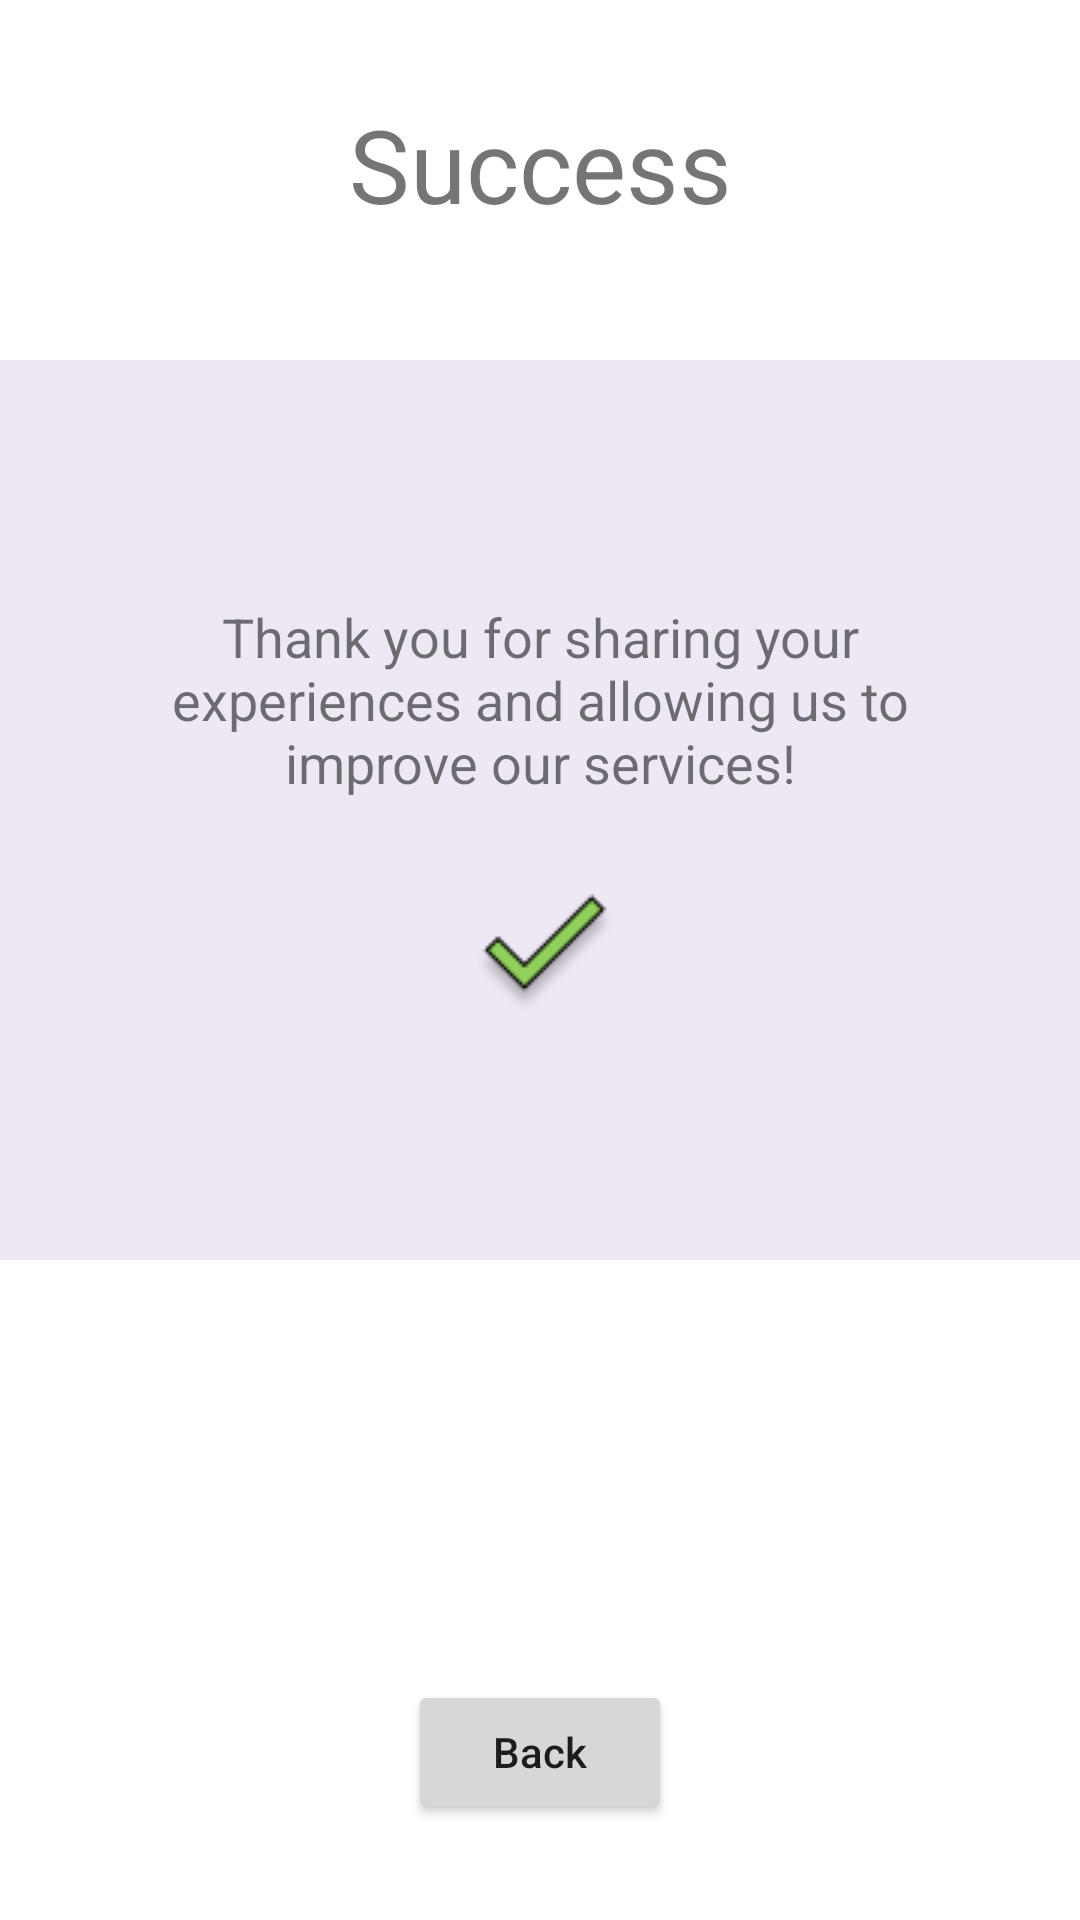

Where icons sit on this 1080 × 1920 app screen, as {"left": x1, "top": y1, "right": x2, "bottom": y2}:
success: {"left": 483, "top": 894, "right": 607, "bottom": 1000}
